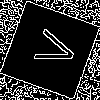V: (24, 25, 79, 72)
